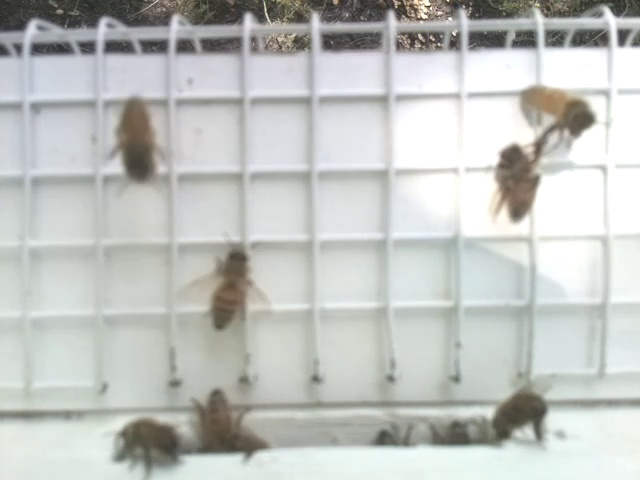bee: (173, 229, 291, 340), (510, 79, 615, 153), (100, 93, 176, 194), (485, 372, 575, 454), (103, 402, 194, 475), (485, 136, 554, 227), (192, 384, 253, 462), (369, 415, 481, 451)
